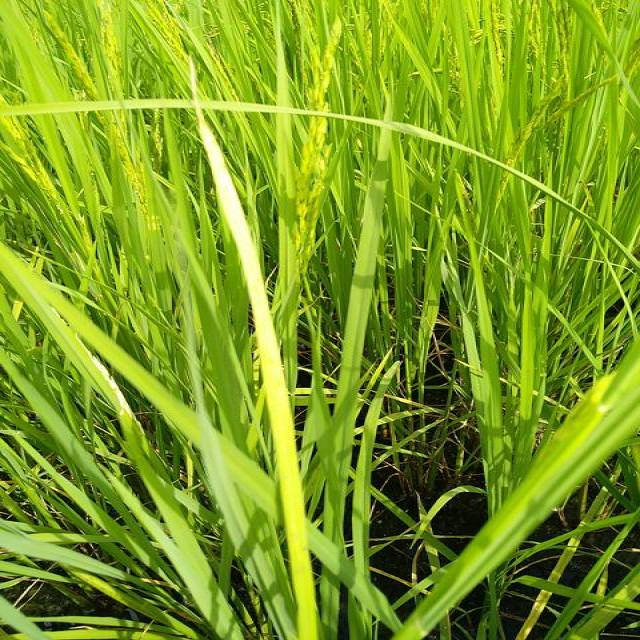Leaf Blight: (201, 123, 321, 639)
